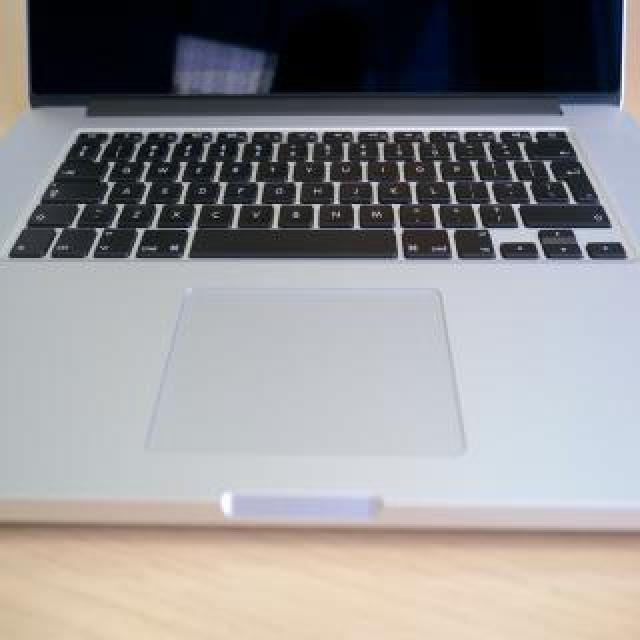laptop_computer: (0, 6, 640, 568)
